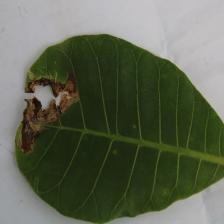leaf miner: (13, 32, 224, 224)
